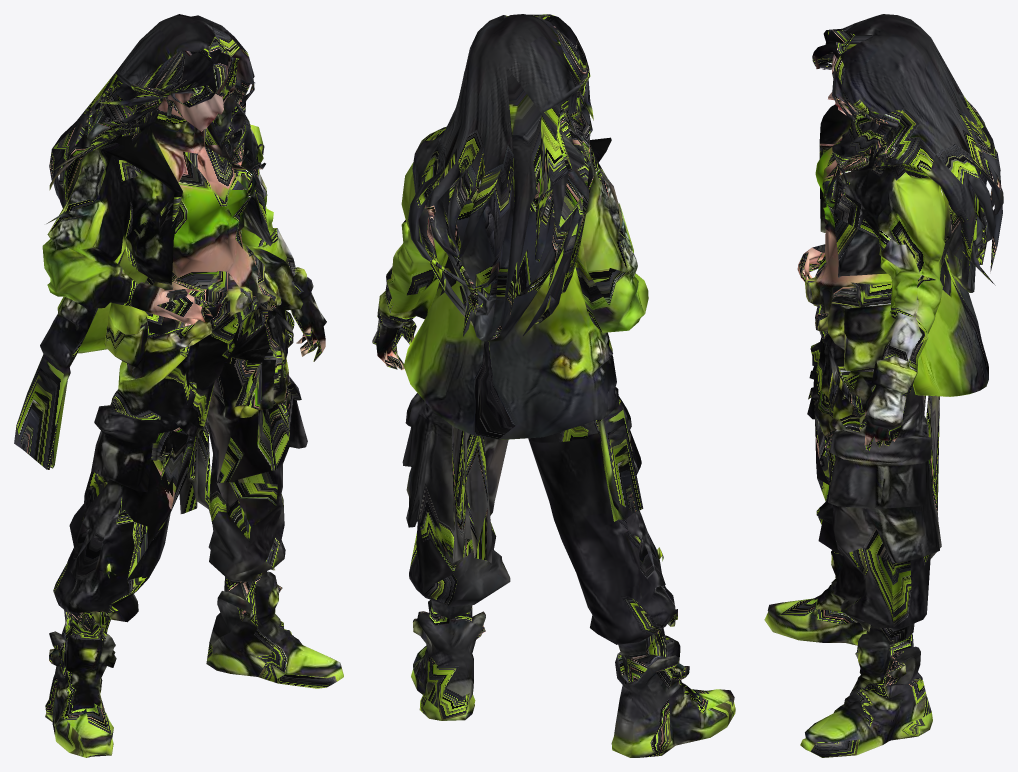
Rendered from zest-lo.glb.
3 renders of one model, left to right at view 1: azimuth 30°, elevation 25°; view 2: azimuth 150°, elevation 25°; view 3: azimuth 270°, elevation 25°, orthographic. The views are drawn at different scales.
Visible parts, largest first — view 1: model; view 2: model; view 3: model.
Part boxes in pixels (x1,y1,x2,y2): model: (14,14,343,757); model: (372,14,735,757); model: (764,14,1003,757).
Bounding box in the file's own units: 0.8777 × 1.9 × 0.6045.
Materials: 1 (1 with a texture image).
